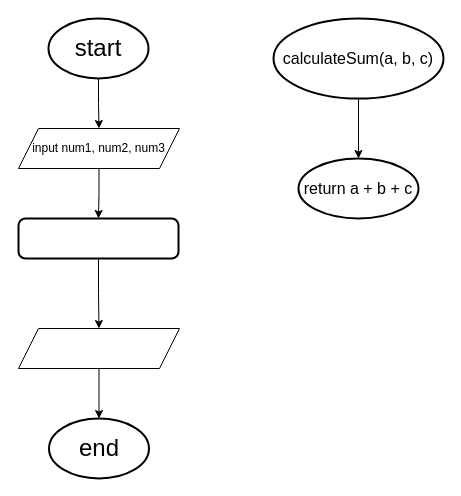
This 461x496 diagram has some shape labels left out. Here are the shapes that lost their labels. From the top down, the centre of each, then its label:
At point (98, 238): "sum = calculateSum(num1, num2, num3)".
At point (99, 348): "output sum".
